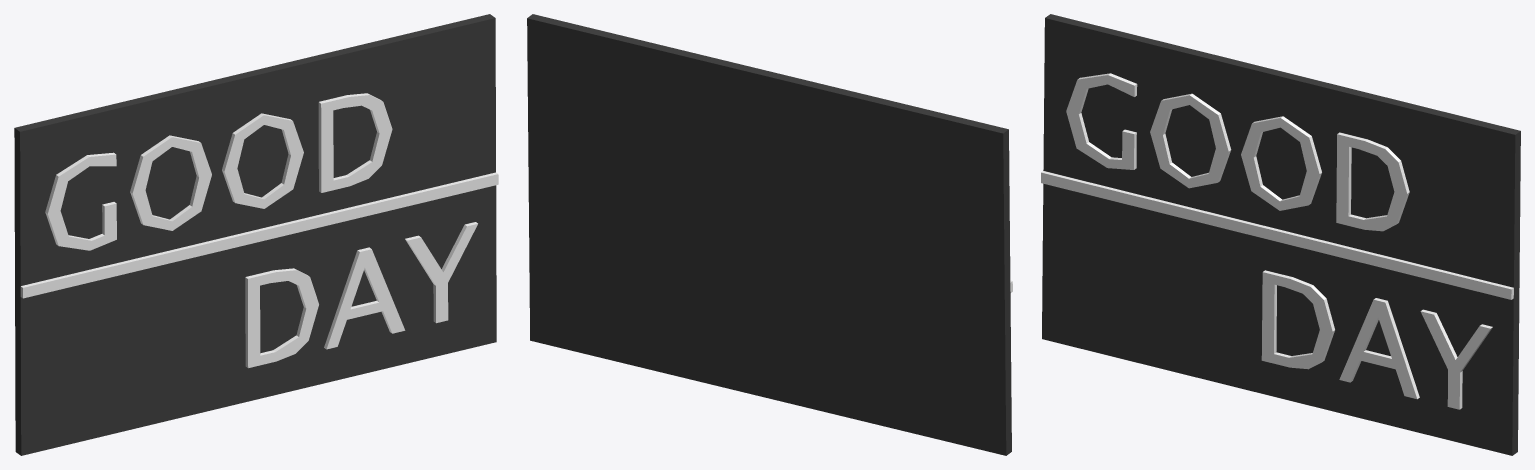
The model's file is Office2_decoration1.fbx.
3 renders of one model, left to right at view 1: azimuth 30°, elevation 25°; view 2: azimuth 150°, elevation 25°; view 3: azimuth 330°, elevation 25°, orthographic.
Parts seen in each view (by area): view 1: Office2_decoration1; view 2: Office2_decoration1; view 3: Office2_decoration1.
Boxes of the visible parts, x1=… form: Office2_decoration1: x1=14, y1=14, x2=498, y2=455; Office2_decoration1: x1=527, y1=14, x2=1012, y2=455; Office2_decoration1: x1=1041, y1=14, x2=1520, y2=455.
Size of the model in its own units: 77.24 by 3 by 50.26.
